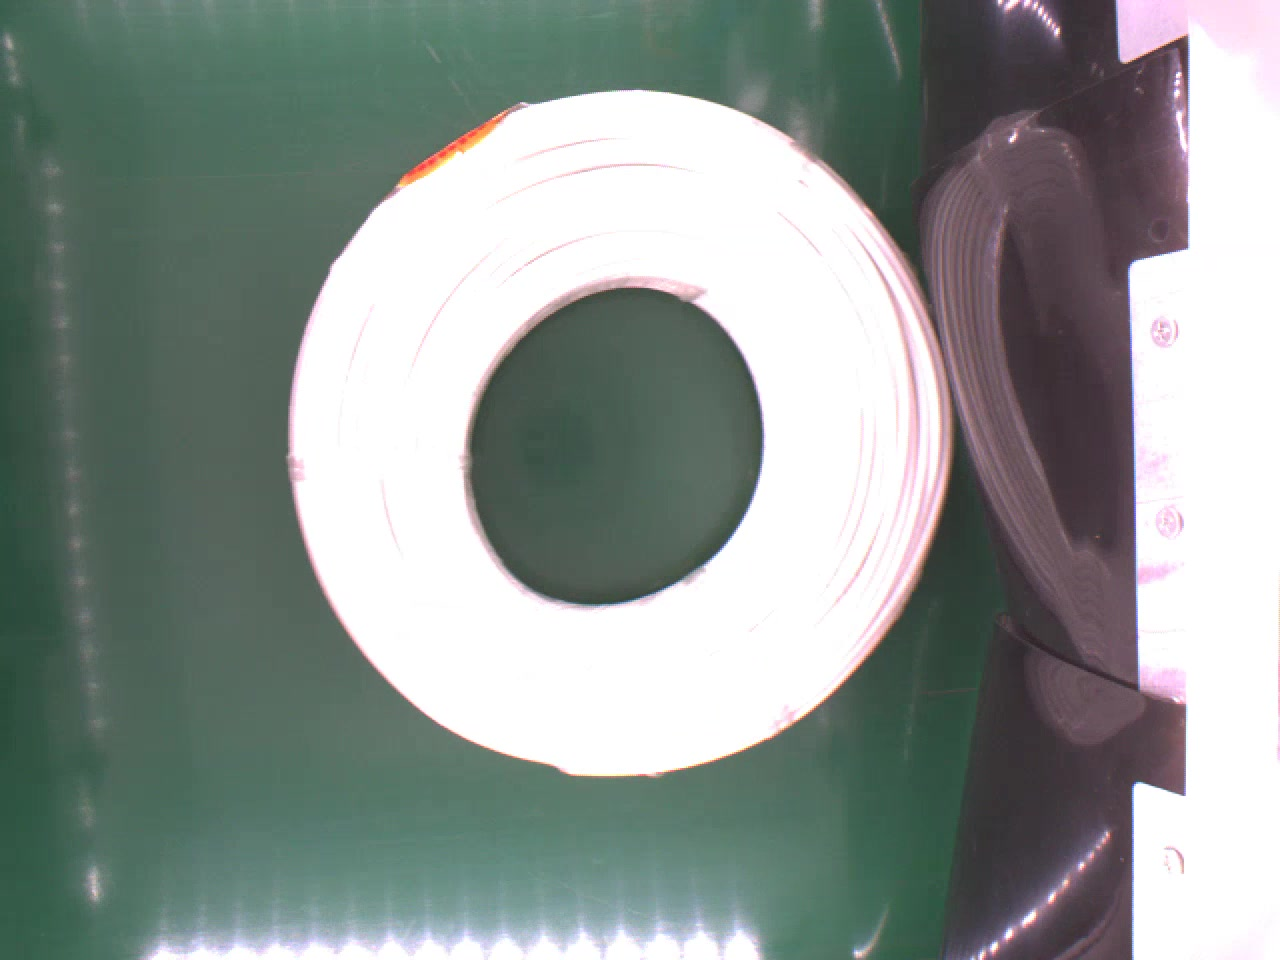white: (274, 84, 954, 783)
